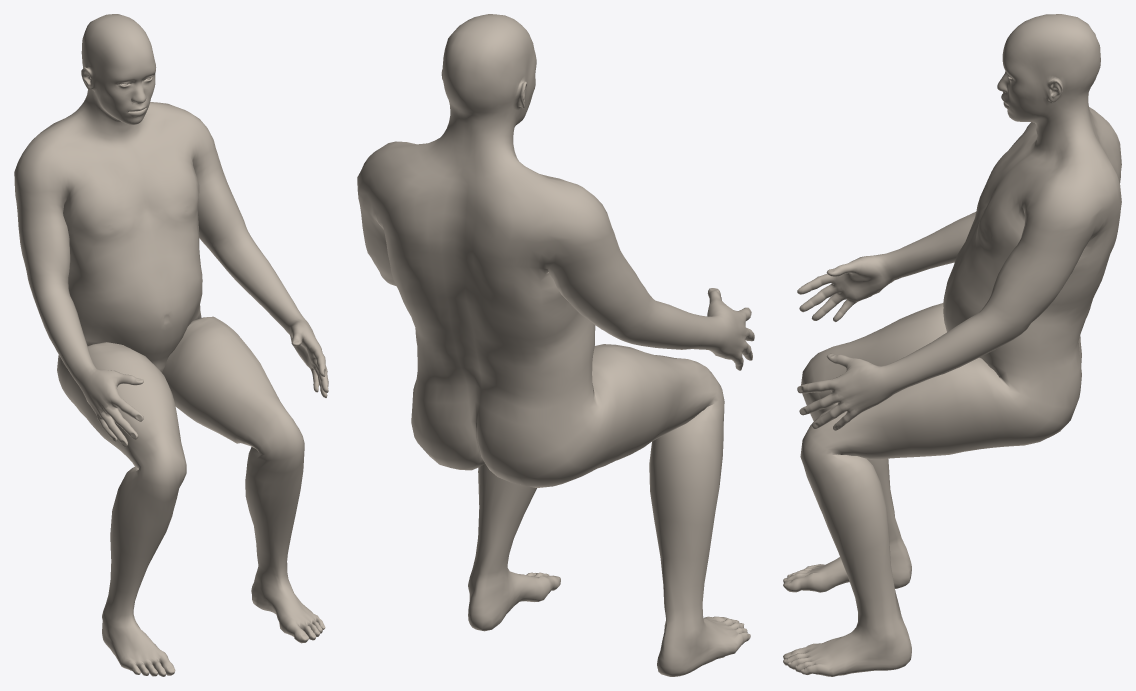
File: sitka_body_chair.glb
3 renders of one model, left to right at view 1: azimuth 30°, elevation 25°; view 2: azimuth 150°, elevation 25°; view 3: azimuth 270°, elevation 25°, orthographic. The views are drawn at different scales.
Visible parts, largest first — view 1: body_chair; view 2: body_chair; view 3: body_chair.
Part boxes in pixels (<box>): body_chair: <box>14,14,328,676</box>; body_chair: <box>357,14,754,676</box>; body_chair: <box>783,14,1121,676</box>.
Size of the model in its own units: 0.6365 by 1.47 by 0.7393.
